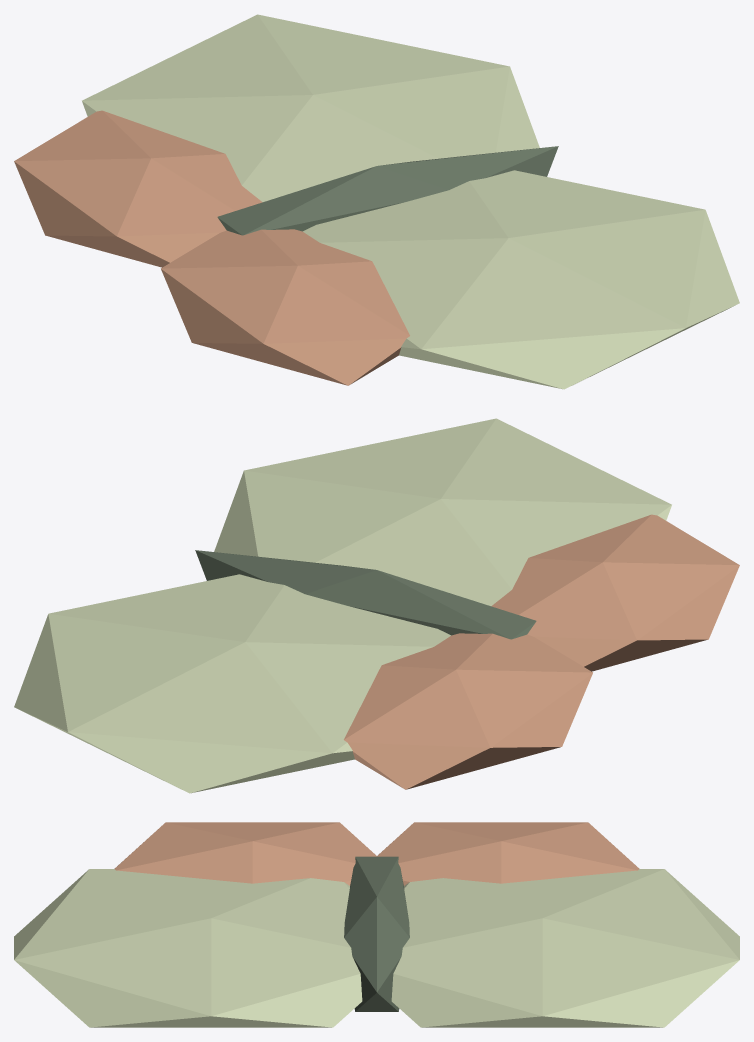
The model's file is butterfly.glb.
The picture shows the model from 3 angles, top to bottom: view 1: azimuth 30°, elevation 25°; view 2: azimuth 150°, elevation 25°; view 3: azimuth 270°, elevation 25°; orthographic projection. The views are drawn at different scales.
Visible parts, largest first — view 1: wing, wing.002, wing.001, wing.003, body.002; view 2: wing.002, wing, wing.003, wing.001, body.002; view 3: wing, wing.002, wing.001, wing.003, body.002.
Boxes of the visible parts, <box> form: wing: <box>303,170,739,389</box>; wing.002: <box>82,14,539,201</box>; wing.001: <box>161,229,409,385</box>; wing.003: <box>14,110,262,267</box>; body.002: <box>217,146,558,235</box>; wing.002: <box>14,574,450,793</box>; wing: <box>214,418,671,605</box>; wing.003: <box>344,633,592,789</box>; wing.001: <box>491,514,739,671</box>; body.002: <box>195,550,536,639</box>; wing: <box>14,869,362,1027</box>; wing.002: <box>391,869,739,1027</box>; wing.001: <box>114,822,376,885</box>; wing.003: <box>377,822,639,885</box>; body.002: <box>344,856,409,1011</box>.
Size of the model in its own units: 0.2889 by 0.05 by 0.4382.
